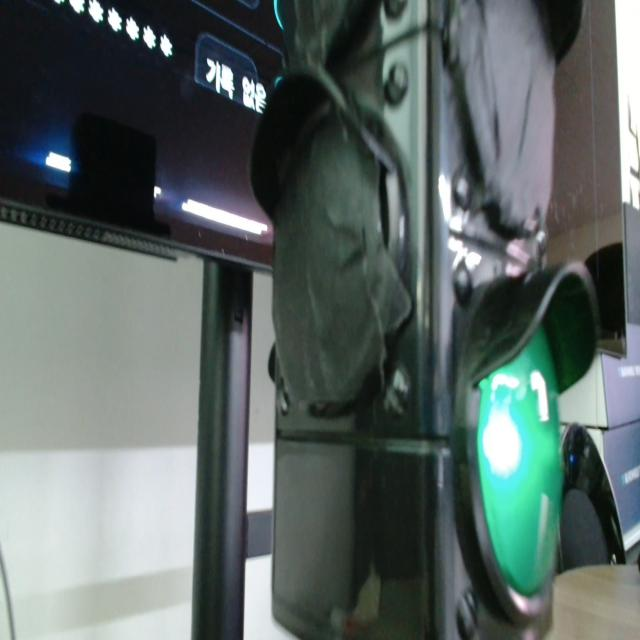green_light: (478, 329, 562, 596), (274, 0, 283, 29)
